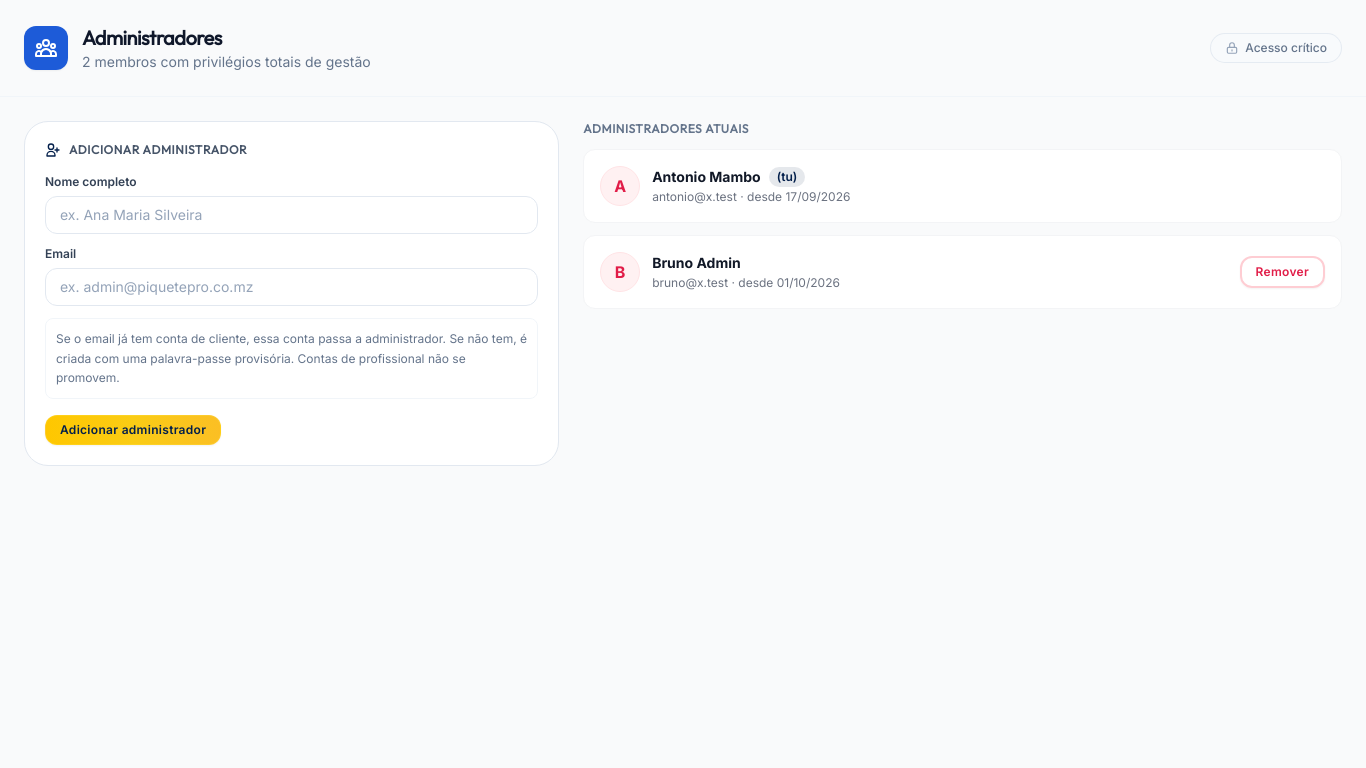
Test case: AdminAdmins — adicionar › promoção de uma conta existente: não mostra nenhuma palavra-passe
This screenshot has width=1366, height=768.
In the field labelled "Nome completo": (292,215) left=45, top=196, right=538, bottom=234, type "Carla"
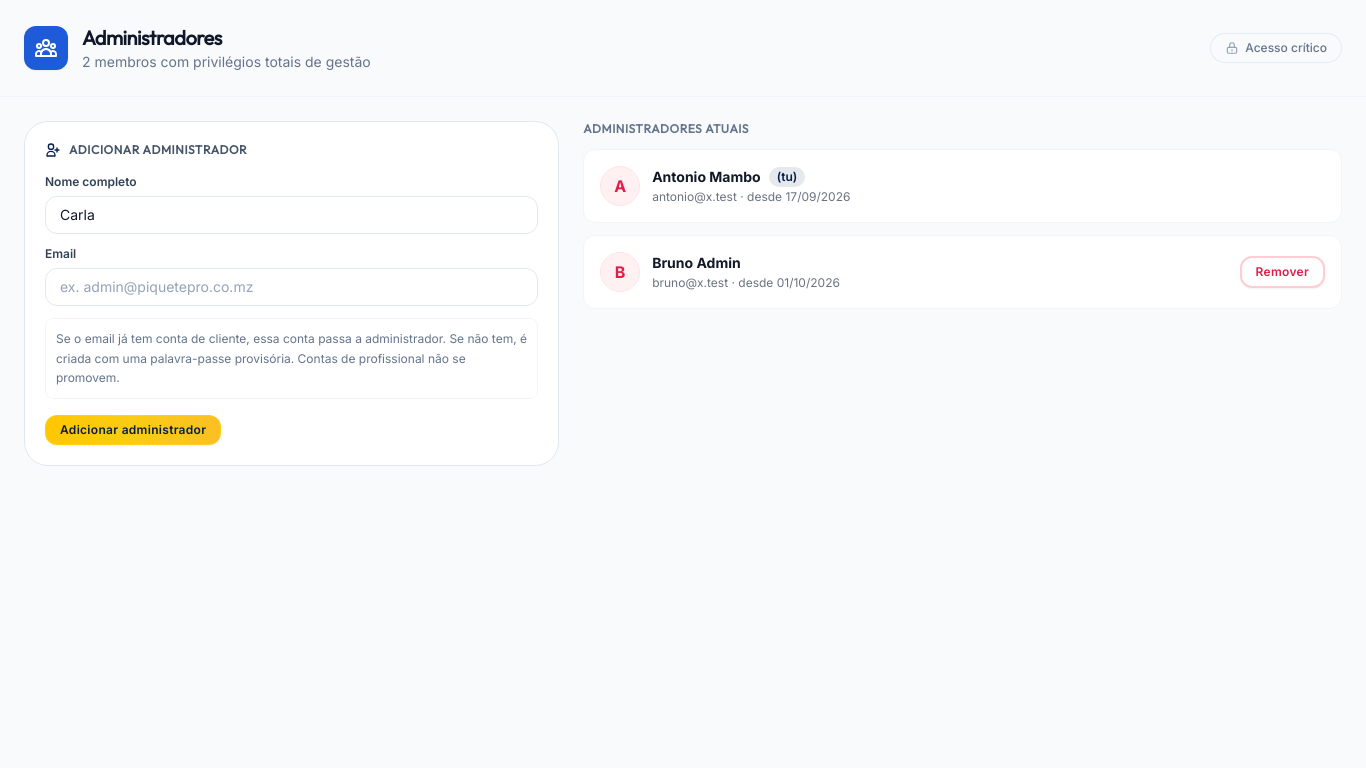
In the field labelled "Email": (292,287) left=45, top=268, right=538, bottom=306, type "carla@x.test"
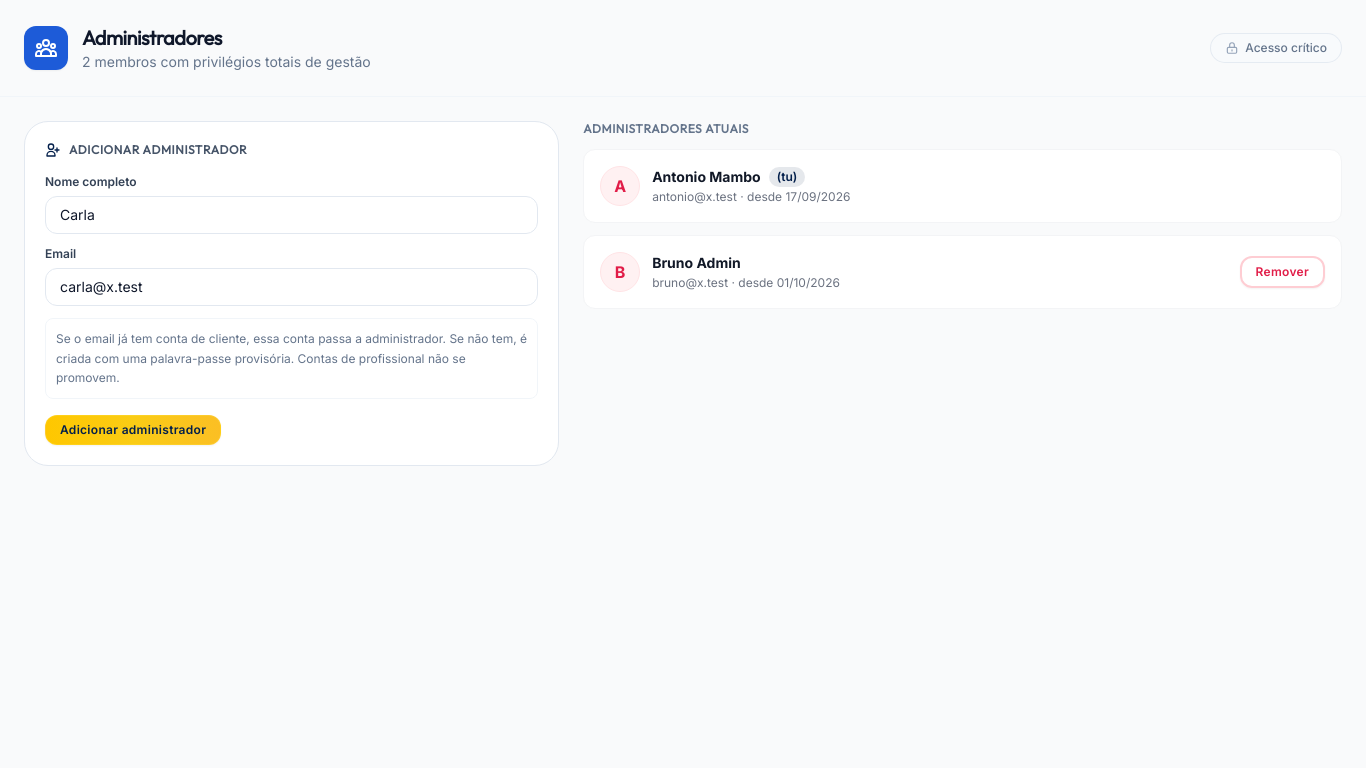
Click the button "Adicionar administrador": (133,430) left=45, top=414, right=221, bottom=444
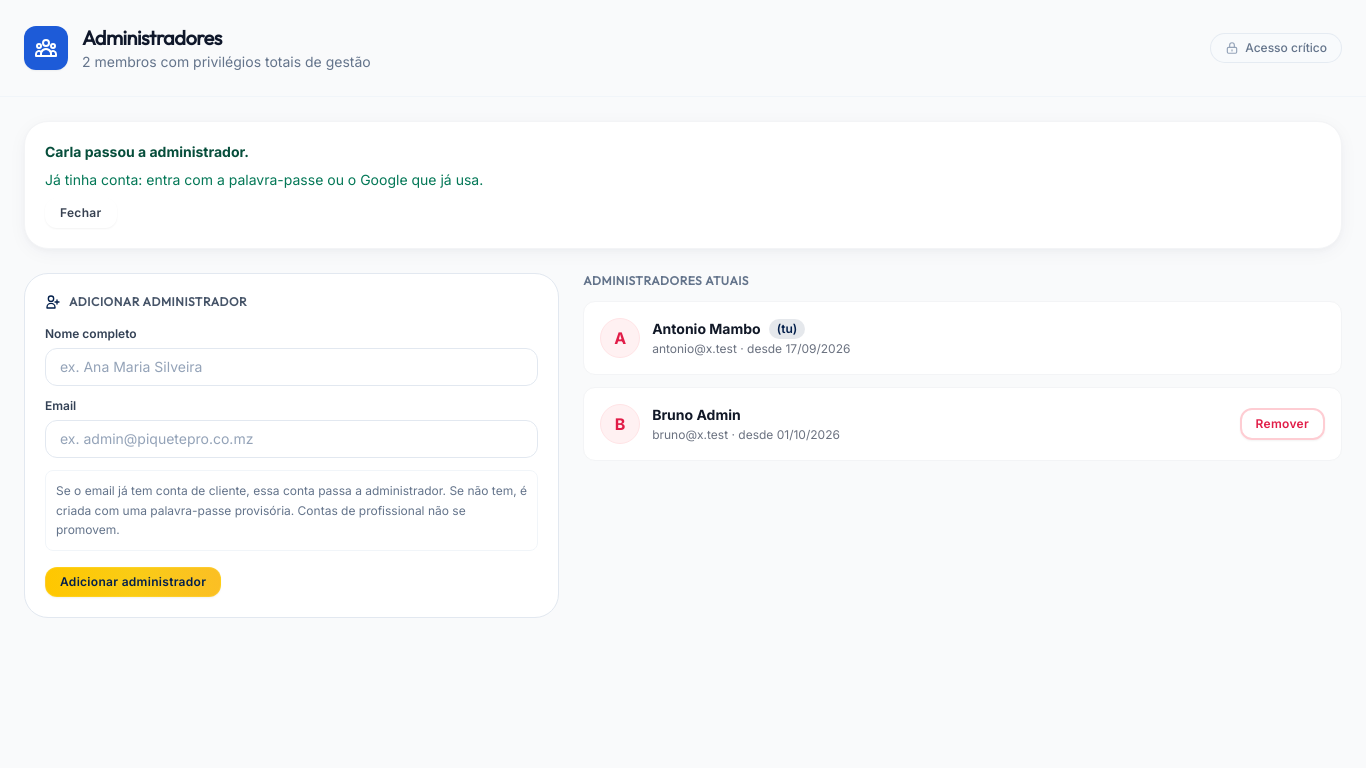
Check: the text "Carla passou a administrador." is shown, box left=45, top=143, right=249, bottom=160
